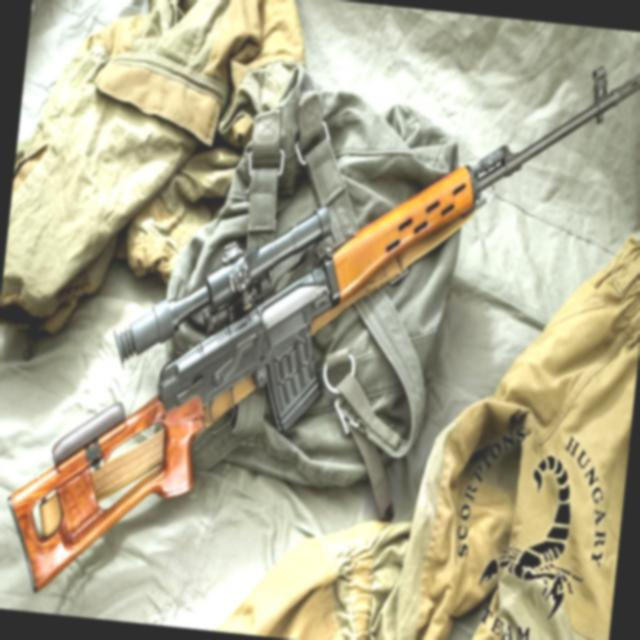rifle: (0, 7, 640, 640)
